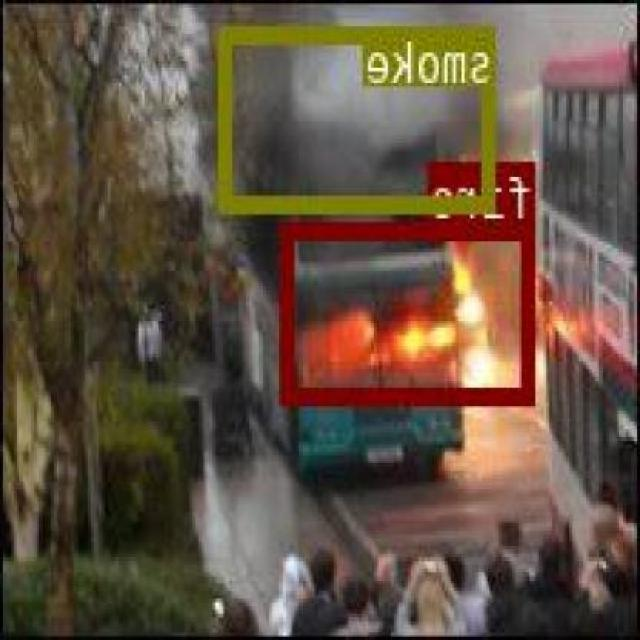Fire: (284, 222, 538, 400)
Smoke: (223, 24, 499, 210)
